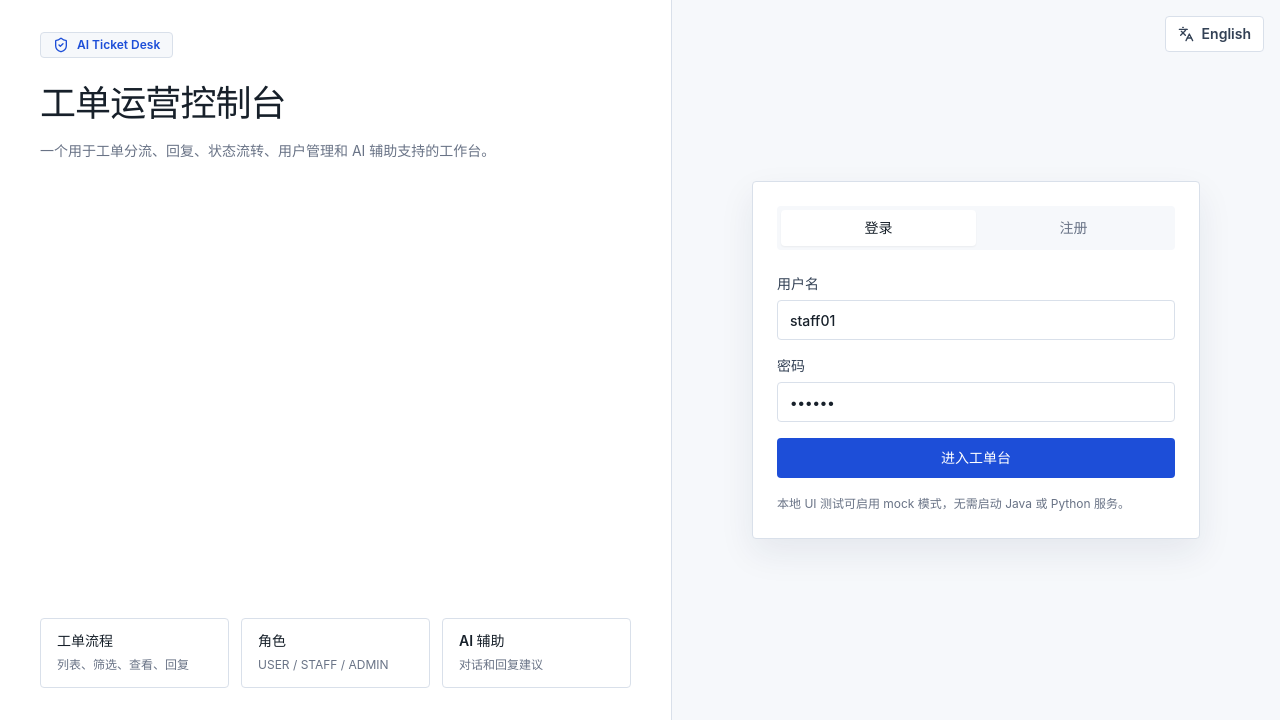
it: App › logs in with mock credentials and shows the ticket desk
The width and height of the screenshot is (1280, 720).
Click the button "进入工单台": {"x": 976, "y": 458} 777,438 -> 1175,478
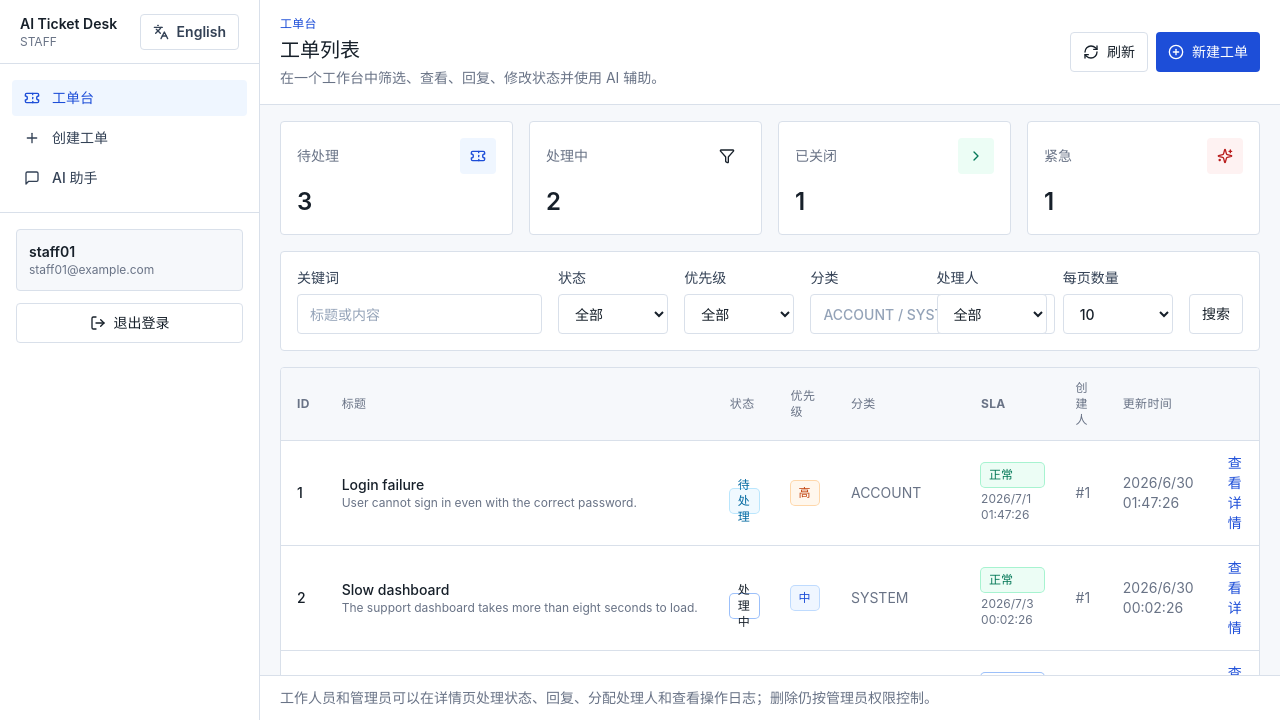
expect the heading "工单列表" is shown: met, box 280,38 -> 360,62
expect the text "Login failure" is shown: met, box 342,476 -> 424,493
